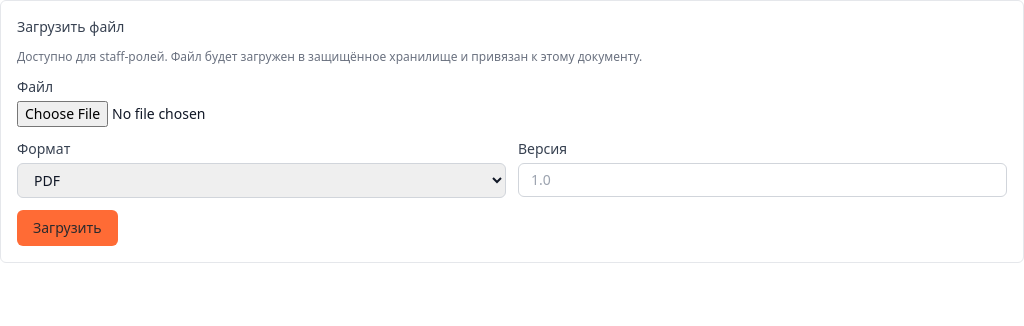
UploadForm › blocks submit без file и показывает ошибку
Click the button "Загрузить": coordinates (67, 228) left=17, top=210, right=118, bottom=246
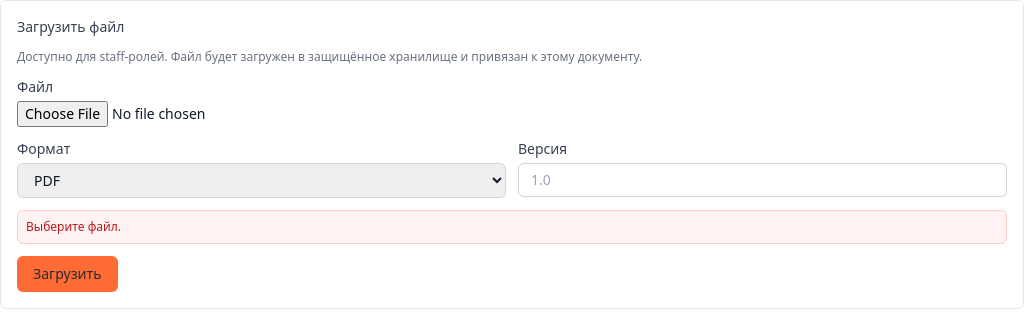
Expected: the message shows "Выберите файл", left=26, top=218, right=121, bottom=235
